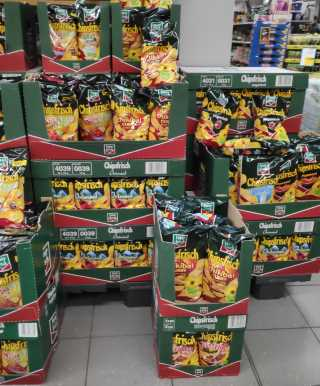chipsfrisch: (160, 222, 204, 302), (203, 225, 245, 303), (194, 86, 237, 149), (141, 14, 178, 85), (40, 82, 77, 143), (76, 81, 113, 142), (113, 83, 150, 144), (252, 93, 290, 147), (238, 155, 273, 204), (47, 4, 77, 58), (75, 4, 103, 60), (296, 143, 320, 202), (75, 178, 107, 211), (111, 177, 143, 210), (79, 239, 112, 270), (116, 239, 147, 269), (258, 235, 290, 264)
